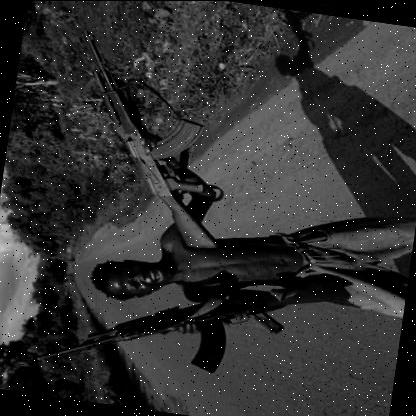rifle: (30, 235, 346, 409), (44, 32, 258, 255)
